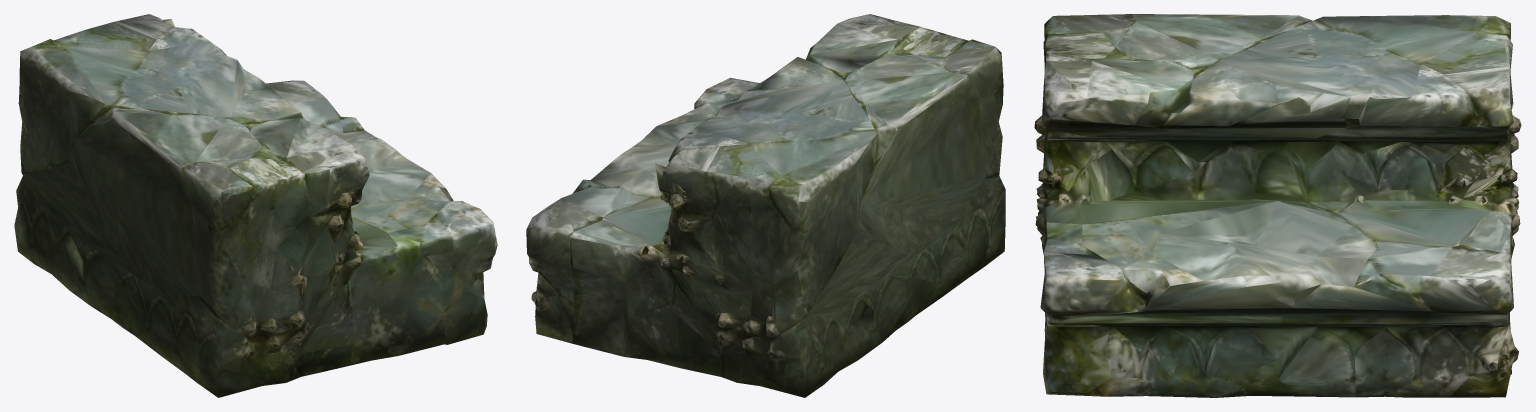
The model's file is steps.glb.
3 views of the same model, side by side, from view 1: azimuth 30°, elevation 25°; view 2: azimuth 150°, elevation 25°; view 3: azimuth 270°, elevation 25° (orthographic). The views are drawn at different scales.
Parts seen in each view (by area): view 1: tripo_node_20a3a3f8-fcb9-479b-83f4-40f70579dc14; view 2: tripo_node_20a3a3f8-fcb9-479b-83f4-40f70579dc14; view 3: tripo_node_20a3a3f8-fcb9-479b-83f4-40f70579dc14.
Boxes of the visible parts, x1,y1,x2,y2 form: tripo_node_20a3a3f8-fcb9-479b-83f4-40f70579dc14: (14,14,497,397); tripo_node_20a3a3f8-fcb9-479b-83f4-40f70579dc14: (526,14,1005,397); tripo_node_20a3a3f8-fcb9-479b-83f4-40f70579dc14: (1034,14,1521,397).
Size of the model in its own units: 0.7599 by 0.5277 by 0.9812.
Materials: 1 (1 with a texture image).
